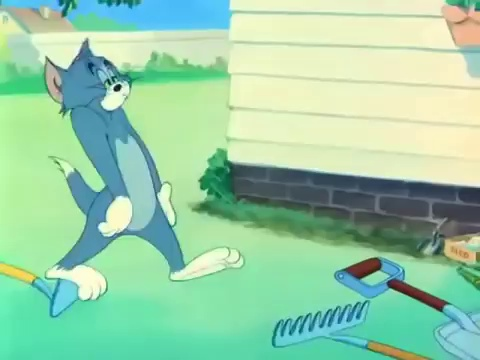tom: (43, 37, 136, 119)
